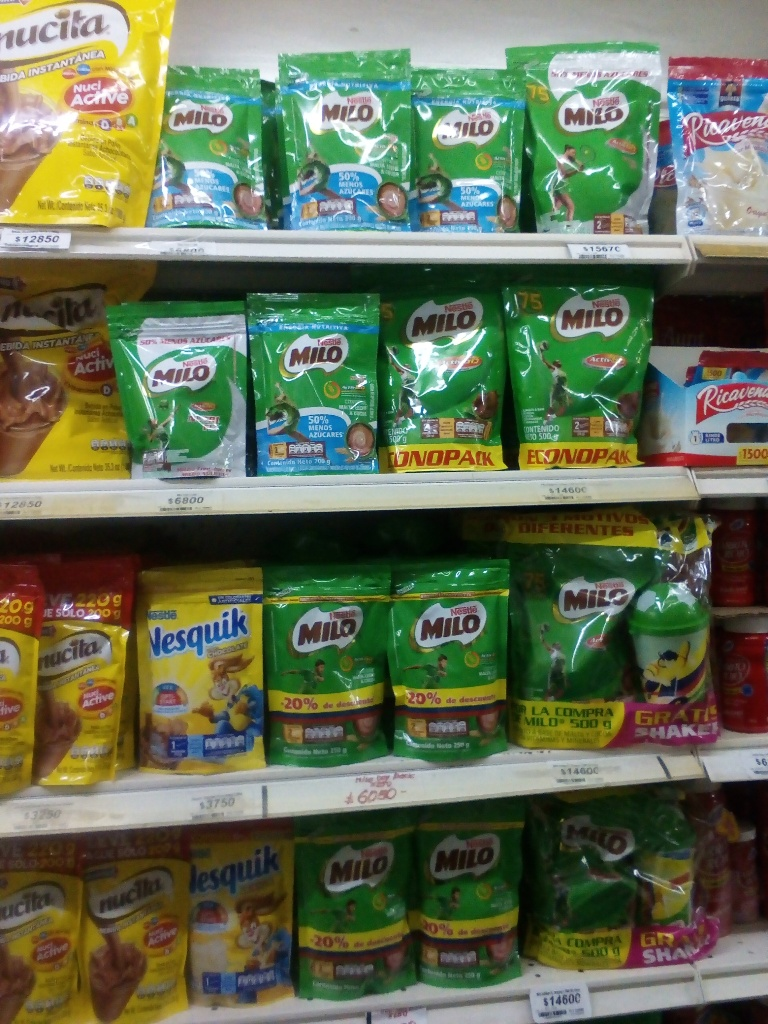COL0170203DYP25000: (266, 569, 394, 765)
COL0170203DYP50000: (372, 276, 512, 474)
COL0170205DYP20000: (244, 289, 382, 481)
COL0170303DYP20000: (136, 568, 265, 770)
COL0170306DYP20000: (190, 824, 298, 1006)
